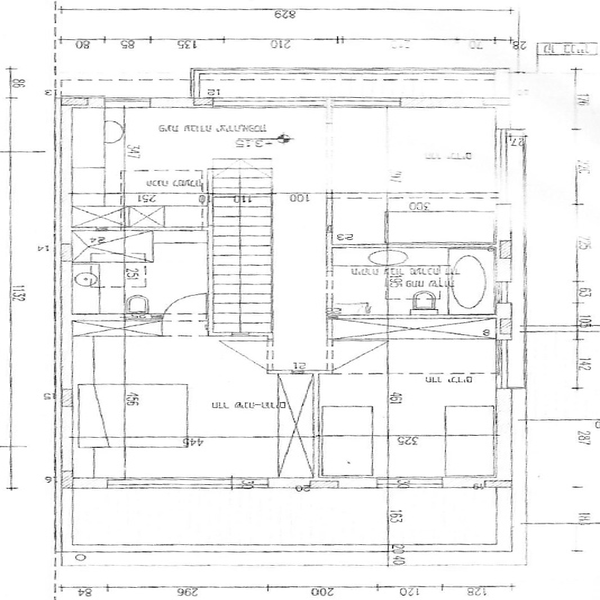door: (153, 281, 210, 336)
window: (211, 92, 406, 112), (107, 474, 269, 495), (380, 473, 445, 494)
